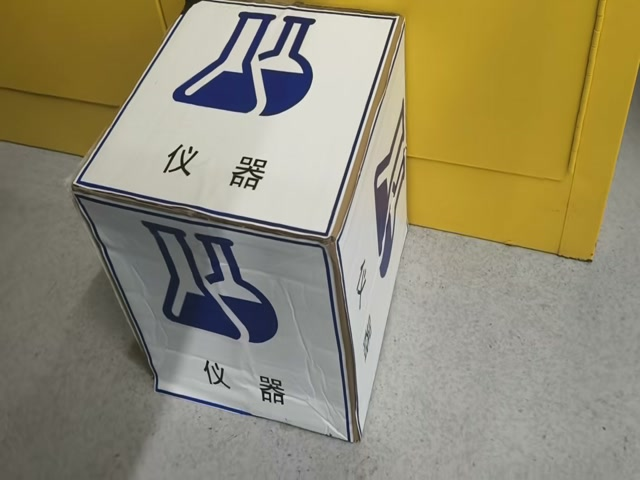Cube_ins: (65, 5, 404, 246)
